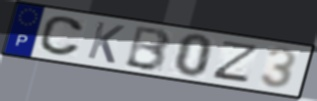0: (171, 32, 216, 79)
3: (258, 45, 300, 90)
B: (122, 25, 173, 73)
C: (37, 15, 86, 58)
K: (84, 19, 127, 66)
Z: (209, 39, 262, 84)
